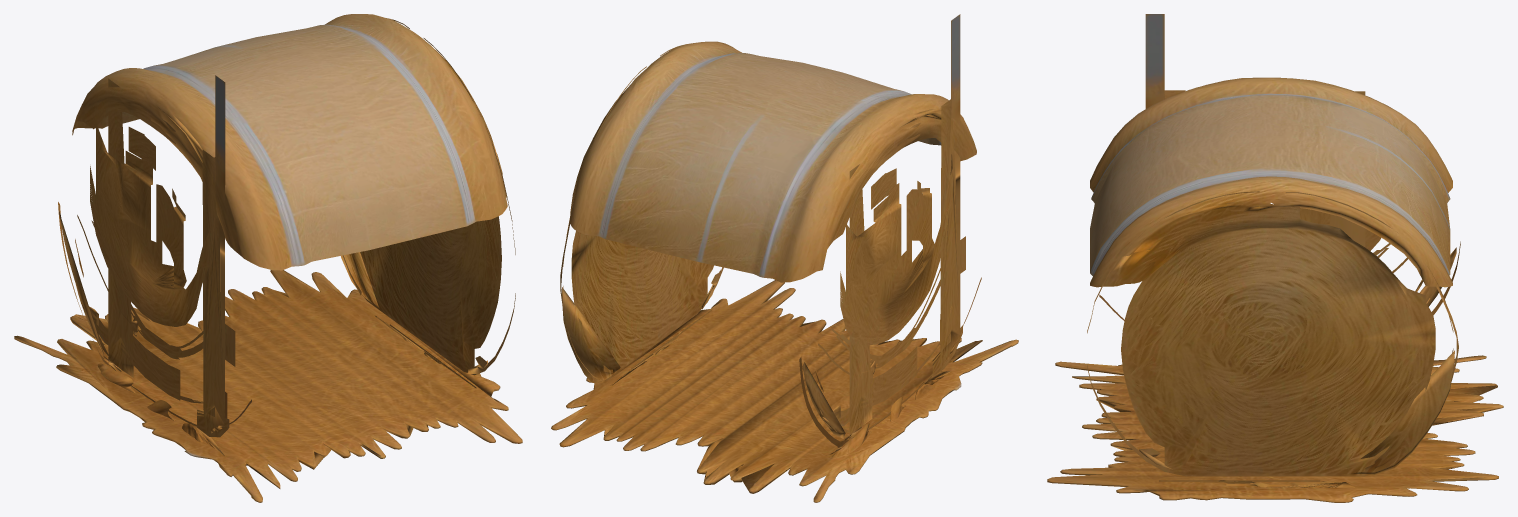
Rendered from Nature__a_hay_bale_6888aecb_v1.cluster.glb.
The picture shows the model from 3 angles, left to right: view 1: azimuth 30°, elevation 25°; view 2: azimuth 150°, elevation 25°; view 3: azimuth 270°, elevation 25°; orthographic projection. The views are drawn at different scales.
Visible parts, largest first — view 1: material; view 2: material; view 3: material.
Boxes of the visible parts, x1,y1,x2,y2 form: material: [14, 14, 522, 502]; material: [551, 14, 1018, 502]; material: [1047, 14, 1503, 502].
Bounding box in the file's own units: 1.45 × 1.66 × 1.9.
Materials: 1 (1 with a texture image).
